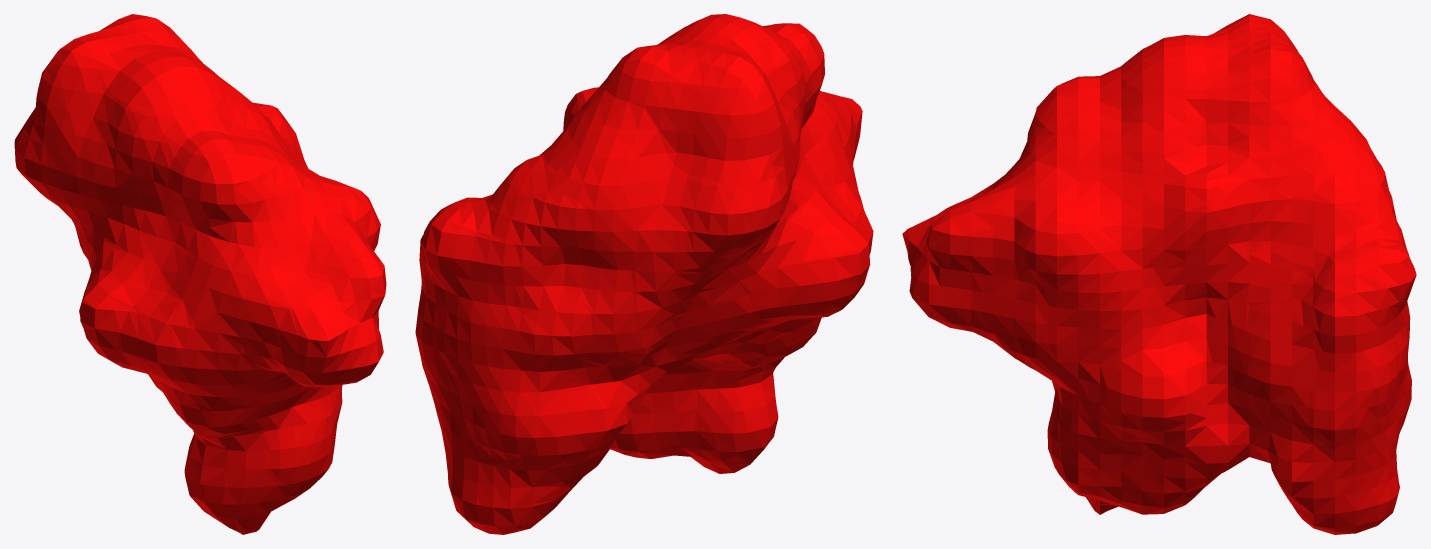
Rendered from mreB_coarse.dae.
3 renders of one model, left to right at view 1: azimuth 30°, elevation 25°; view 2: azimuth 150°, elevation 25°; view 3: azimuth 270°, elevation 25°, orthographic. The views are drawn at different scales.
Visible parts, largest first — view 1: mreB; view 2: mreB; view 3: mreB.
Boxes of the visible parts, x1,y1,x2,y2 form: mreB: (14, 14, 386, 534); mreB: (415, 14, 873, 534); mreB: (902, 14, 1416, 534).
Bounding box in the file's own units: 44.57 × 64.75 × 66.62.
